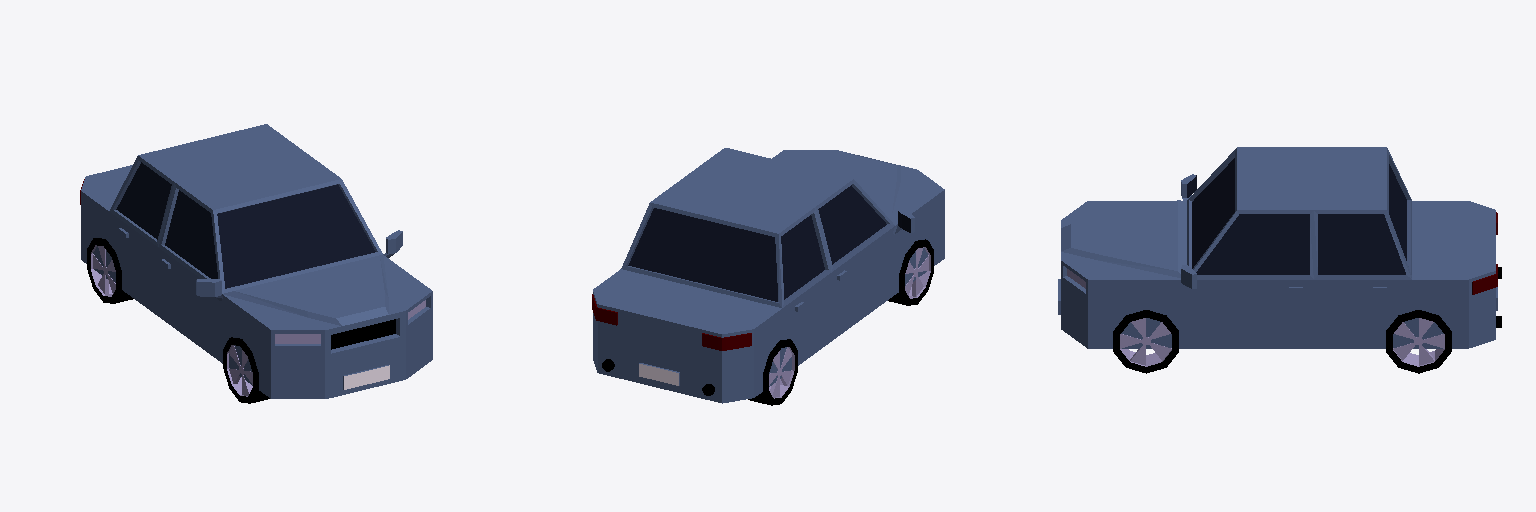
File: Carro.obj
3 renders of one model, left to right at view 1: azimuth 30°, elevation 25°; view 2: azimuth 150°, elevation 25°; view 3: azimuth 270°, elevation 25°, orthographic.
Parts seen in each view (by area): view 1: carro_normal; view 2: carro_normal; view 3: carro_normal.
Boxes of the visible parts, box(x1,y1,x2,y2) form: carro_normal: box(80, 124, 432, 403); carro_normal: box(592, 148, 944, 405); carro_normal: box(1058, 147, 1501, 373).
Size of the model in its own units: 35.37 by 25.27 by 65.78.